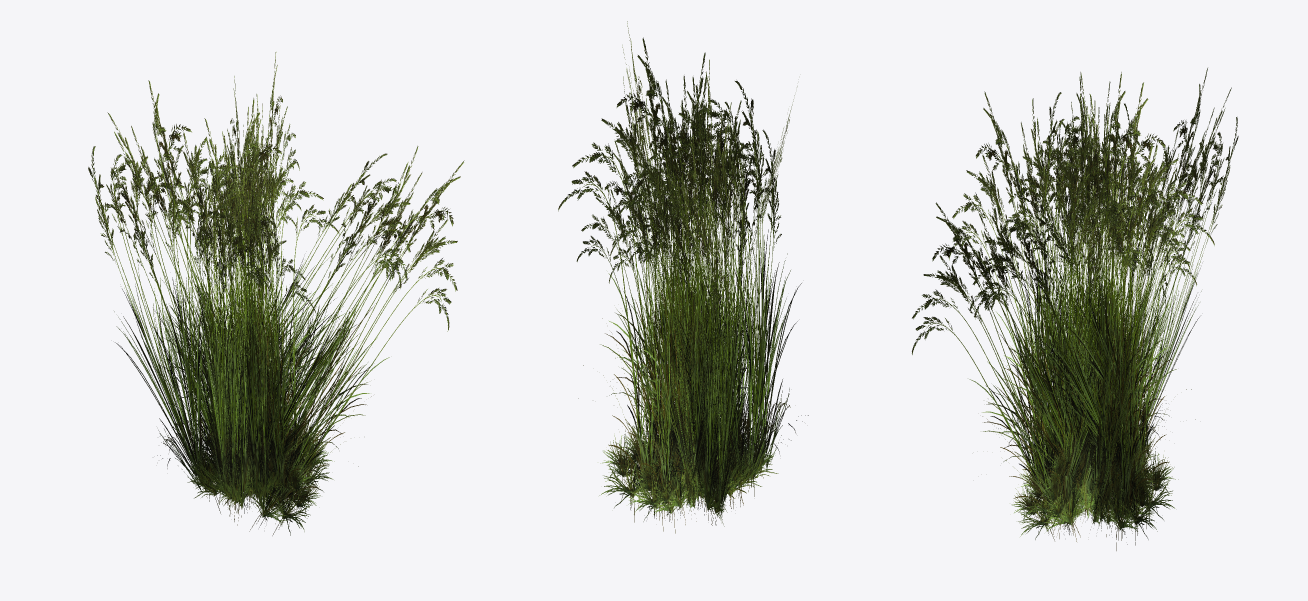
File: Grass_14.fbx
3 renders of one model, left to right at view 1: azimuth 30°, elevation 25°; view 2: azimuth 150°, elevation 25°; view 3: azimuth 270°, elevation 25°, orthographic. The views are drawn at different scales.
Visible parts, largest first — view 1: Grass_14; view 2: Grass_14; view 3: Grass_14.
Part boxes in pixels (x1,y1,x2,y2): Grass_14: (88,52,464,535); Grass_14: (558,21,808,533); Grass_14: (912,68,1238,550).
Bounding box in the file's own units: 1749 × 2682 × 1995.
